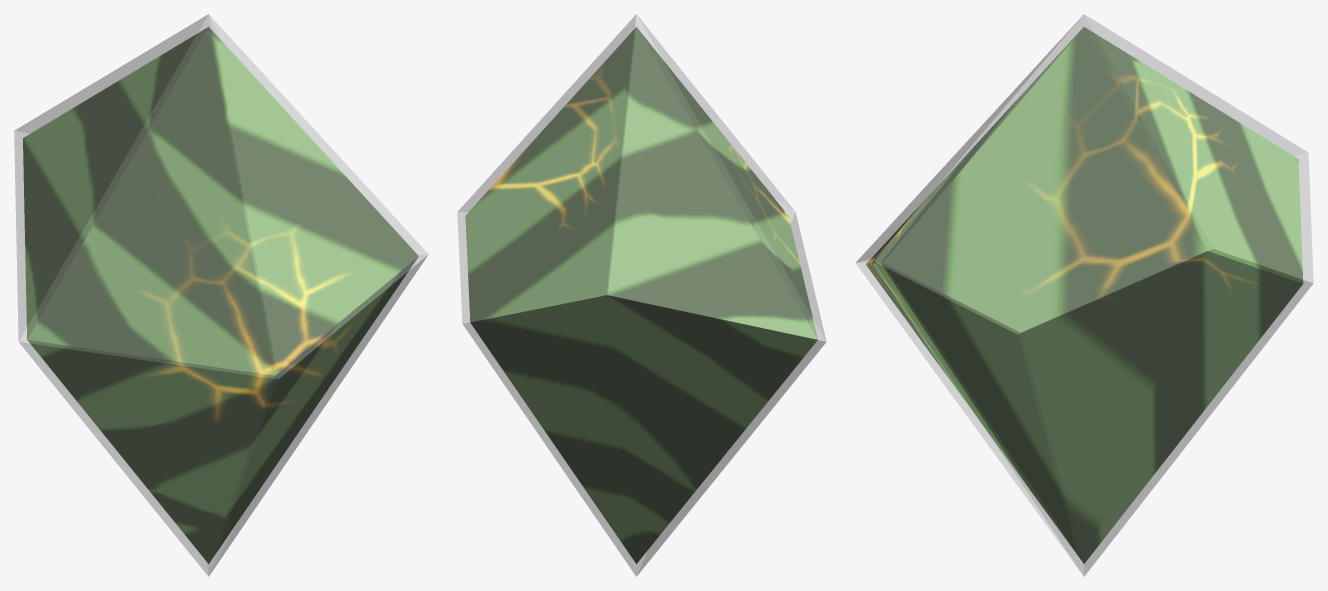
The model's file is GEMA SLIME ROCA.fbx.
3 renders of one model, left to right at view 1: azimuth 30°, elevation 25°; view 2: azimuth 150°, elevation 25°; view 3: azimuth 270°, elevation 25°, orthographic.
Parts seen in each view (by area): view 1: GEM 2, GEM; view 2: GEM 2, GEM; view 3: GEM 2, GEM.
Boxes of the visible parts, x1=… form: GEM 2: x1=14, y1=14, x2=428, y2=576; GEM: x1=23, y1=27, x2=418, y2=563; GEM 2: x1=457, y1=14, x2=826, y2=576; GEM: x1=465, y1=27, x2=817, y2=563; GEM 2: x1=855, y1=14, x2=1313, y2=576; GEM: x1=866, y1=27, x2=1303, y2=563.
Size of the model in its own units: 178 by 296 by 219.
